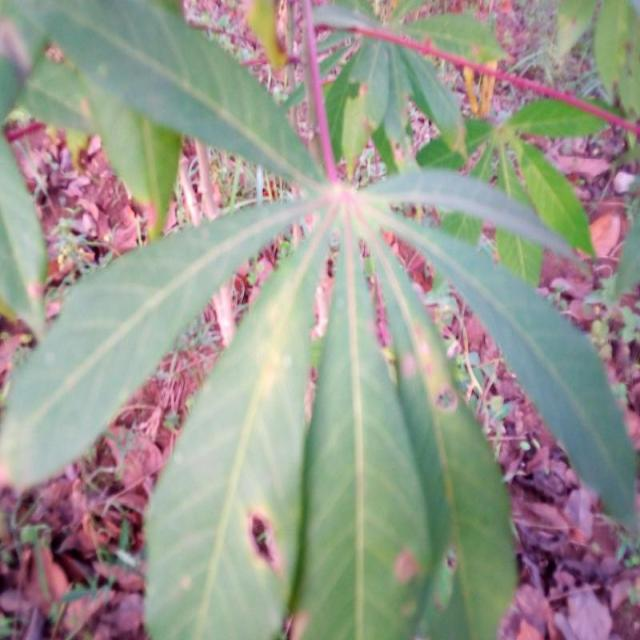cassava leaf: (0, 0, 638, 639), (0, 194, 317, 495)
